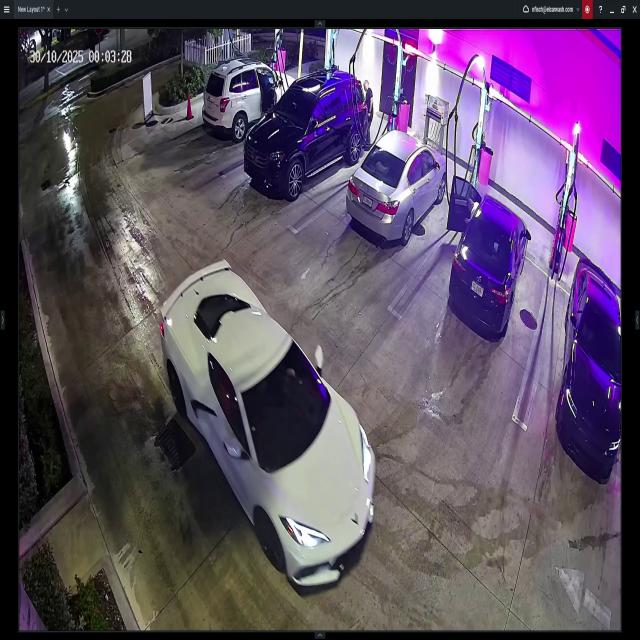Car: (164, 258, 378, 590), (246, 70, 370, 196), (556, 257, 621, 480), (451, 173, 531, 348), (349, 129, 447, 244), (202, 58, 296, 140)
